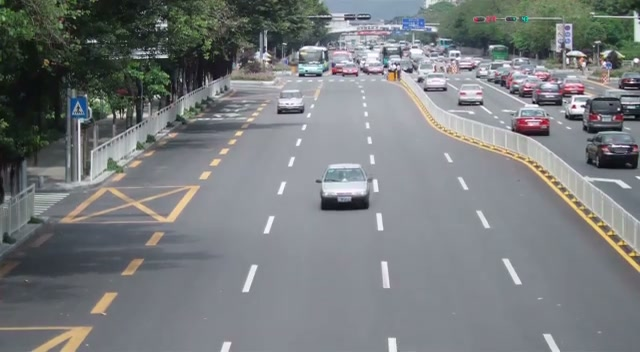car: (315, 163, 377, 211), (585, 131, 639, 169), (581, 97, 625, 134), (512, 105, 551, 136), (276, 87, 305, 114), (565, 95, 594, 120), (532, 82, 562, 106), (457, 82, 484, 106), (423, 73, 447, 92), (560, 79, 585, 96), (519, 77, 541, 96), (619, 71, 640, 90), (336, 63, 359, 76)
truck: (297, 46, 329, 77)
